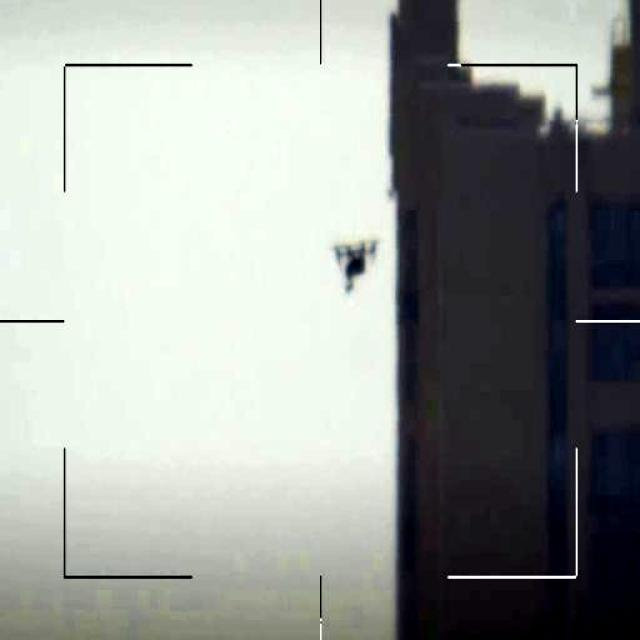bird: (326, 235, 385, 301)
